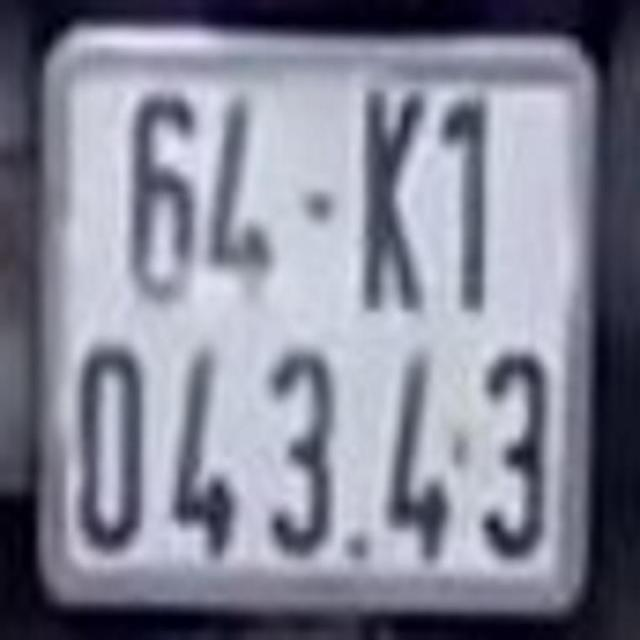0: (85, 347, 151, 552)
1: (444, 101, 498, 312)
3: (264, 354, 332, 557), (487, 352, 547, 559)
4: (174, 346, 240, 565), (210, 98, 276, 309), (388, 362, 446, 560)
6: (130, 100, 202, 308)
K: (356, 90, 437, 313)
